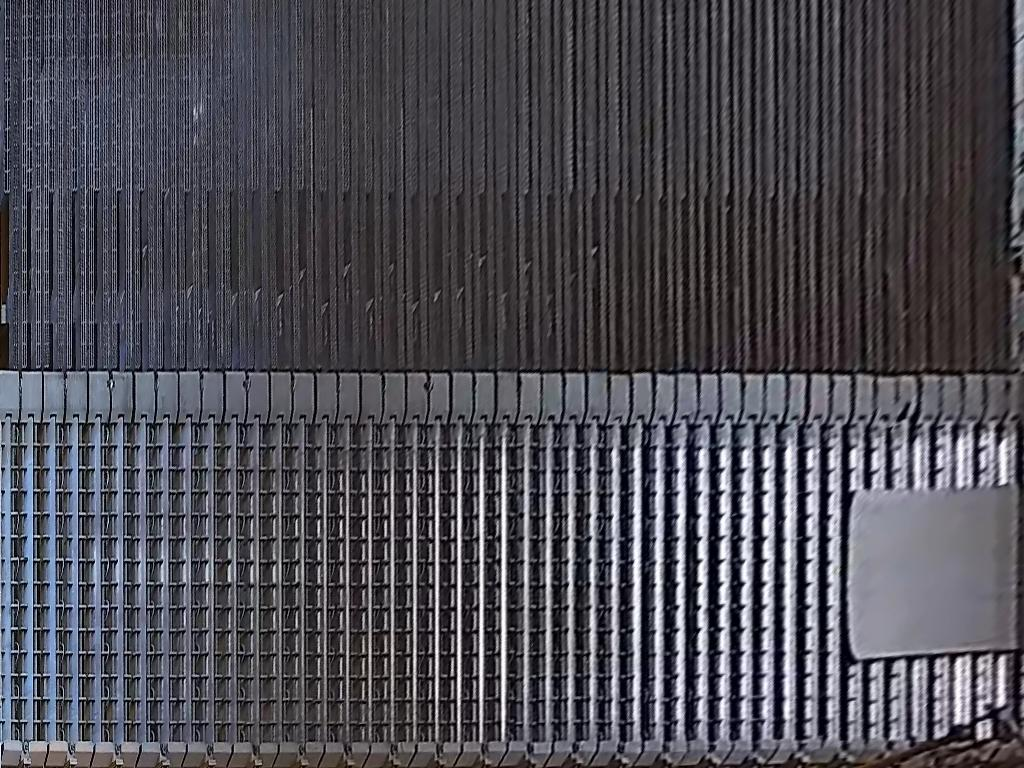steel: (849, 487, 1024, 662)
